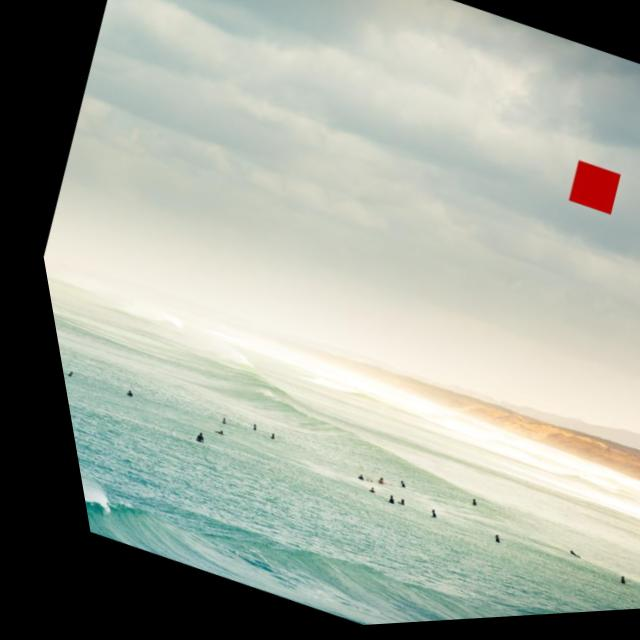RedSquare: (545, 156, 627, 233)
